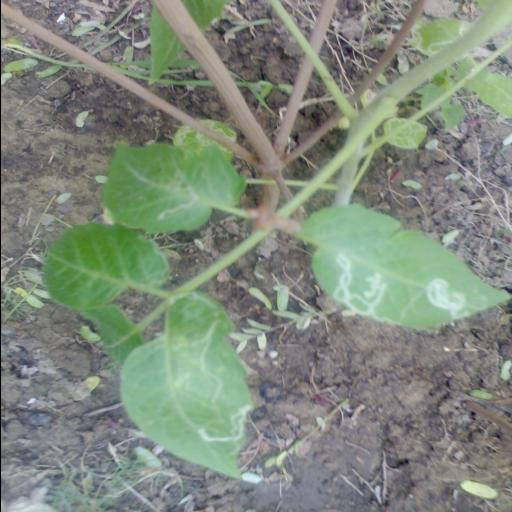disease_tomato: (115, 288, 259, 479), (299, 200, 512, 328)
